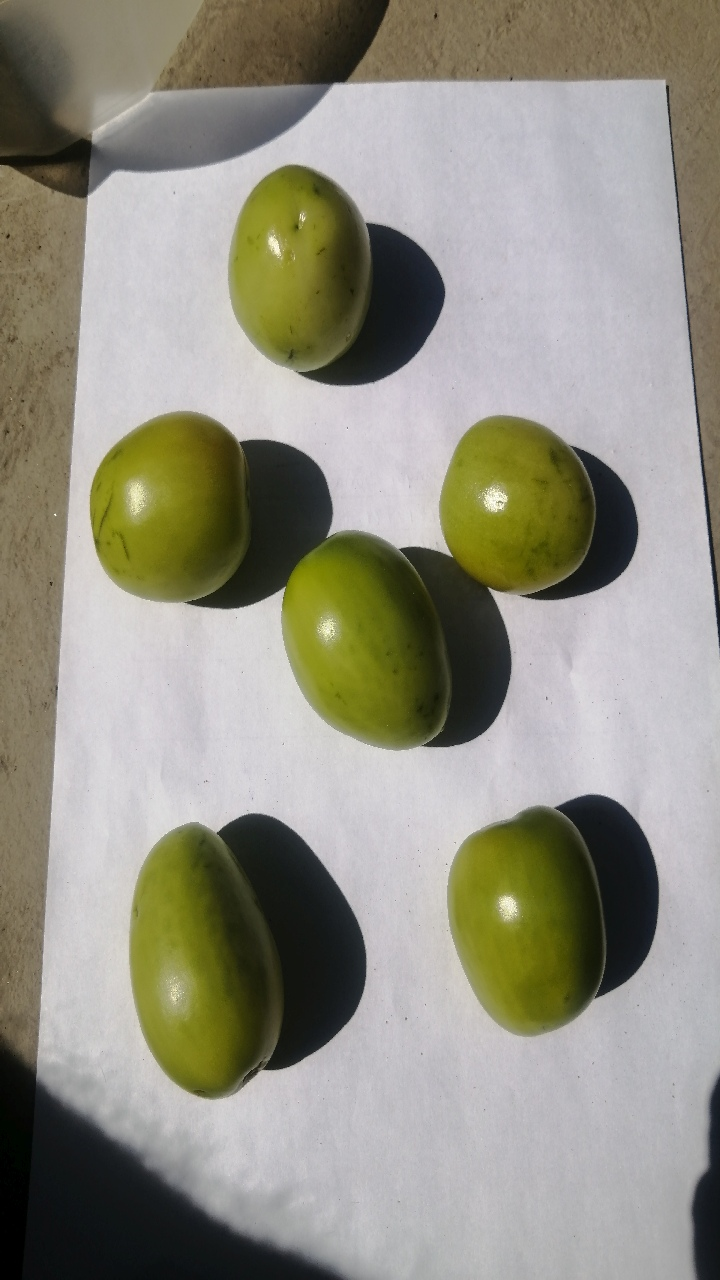tomateVerde: (101, 803, 294, 1112), (421, 783, 623, 1046), (264, 503, 464, 759), (426, 386, 621, 622), (83, 394, 271, 634), (209, 151, 392, 386)
